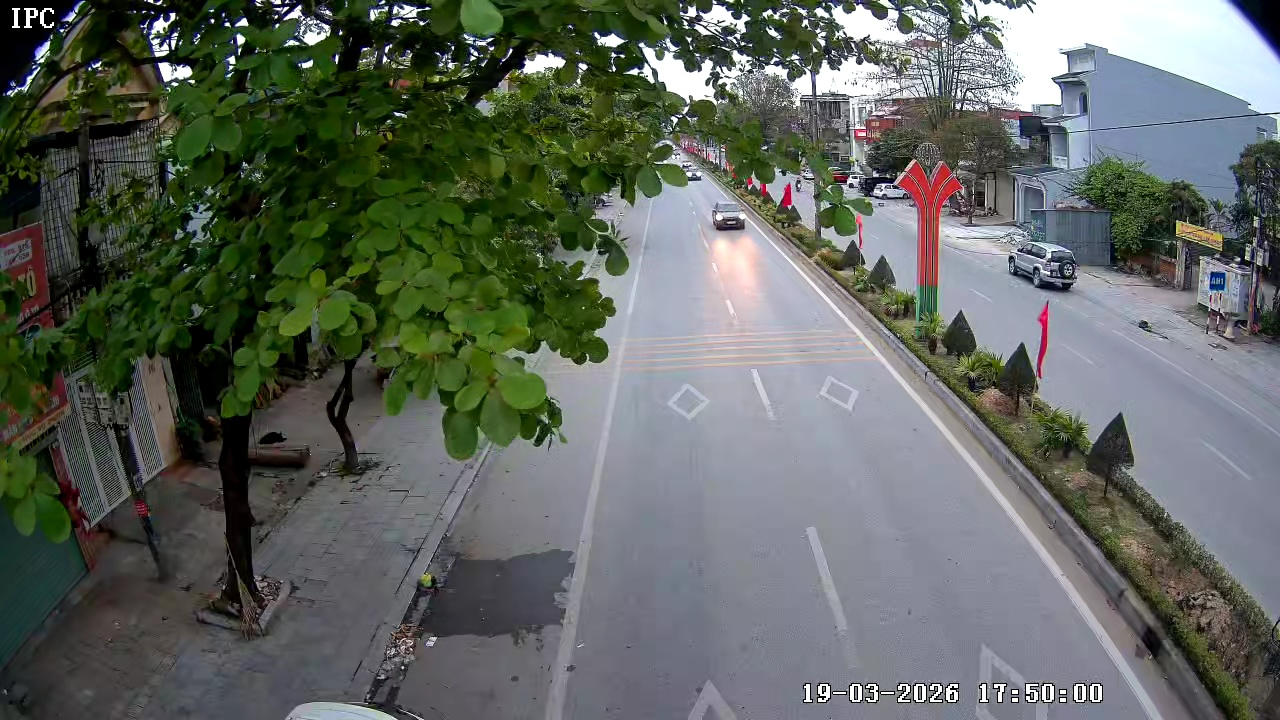car: (1006, 239, 1079, 291), (711, 199, 747, 232)
